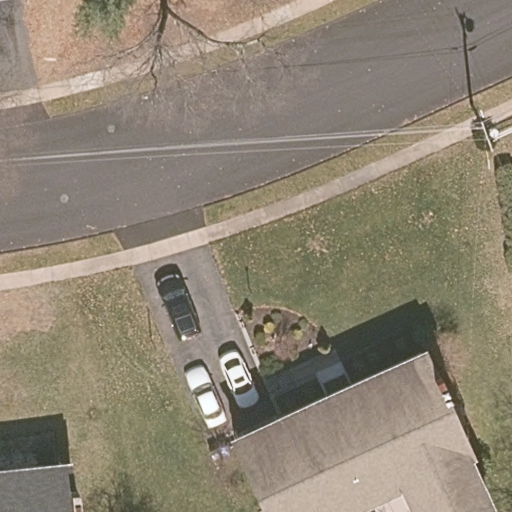DT: (471, 104, 497, 169)
